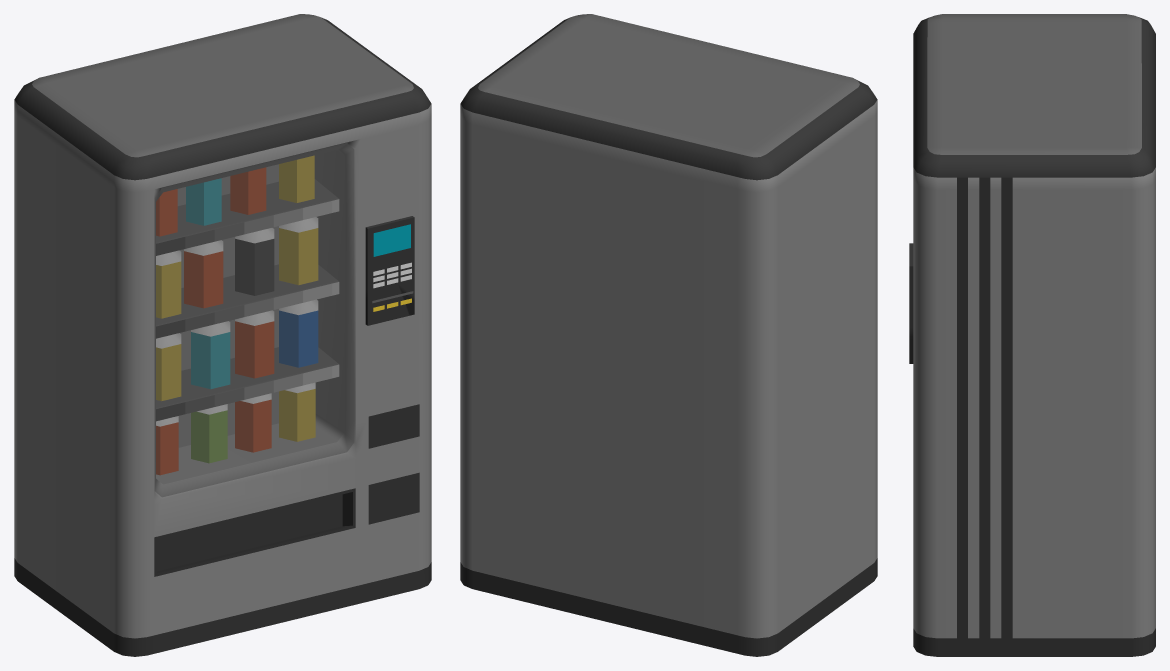
Rendered from Vendin_machine2.fbx.
The picture shows the model from 3 angles, left to right: view 1: azimuth 30°, elevation 25°; view 2: azimuth 150°, elevation 25°; view 3: azimuth 270°, elevation 25°; orthographic projection.
Visible parts, largest first — view 1: Vendin_machine2; view 2: Vendin_machine2; view 3: Vendin_machine2.
Part boxes in pixels (box(x1,y1,x2,y2)): Vendin_machine2: box(14, 14, 431, 656); Vendin_machine2: box(460, 14, 877, 656); Vendin_machine2: box(909, 14, 1155, 656).
Size of the model in its own units: 0.4801 by 0.7193 by 0.3281.
